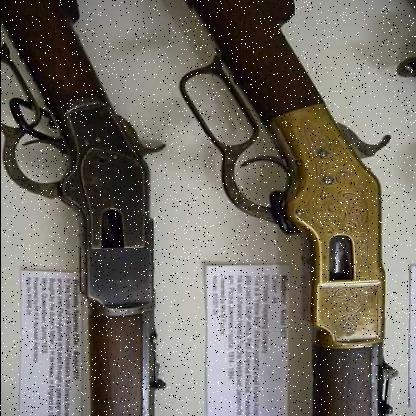rifle: (186, 0, 399, 385), (1, 22, 181, 394)
